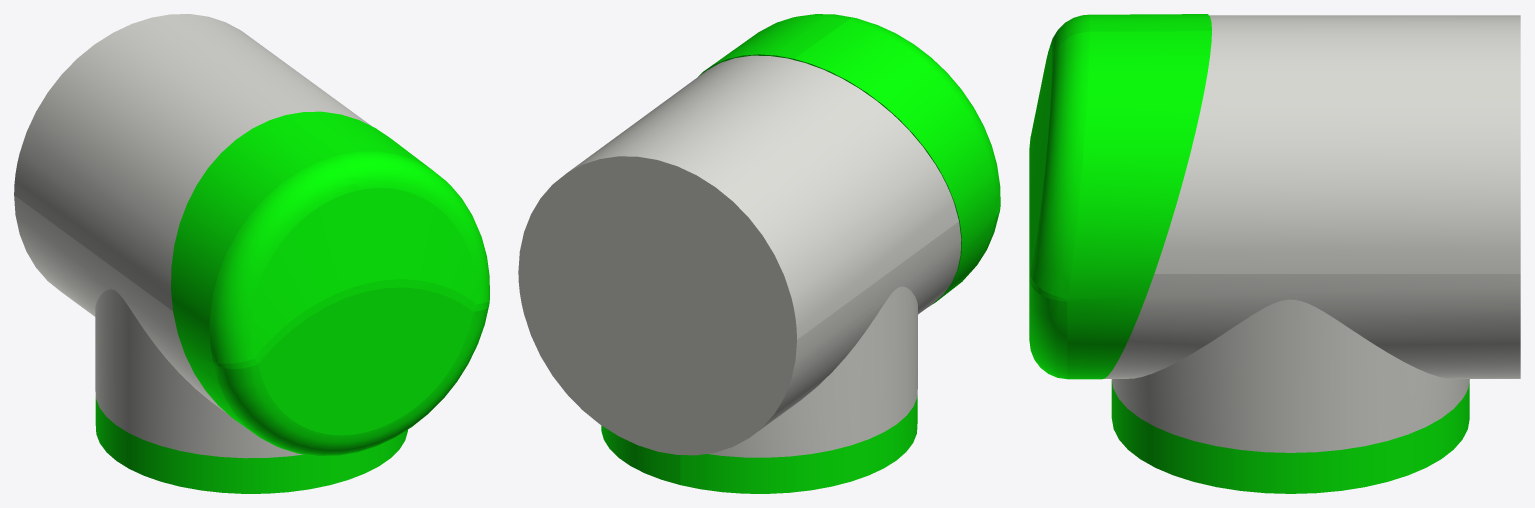
3 views of the same model, side by side, from view 1: azimuth 30°, elevation 25°; view 2: azimuth 150°, elevation 25°; view 3: azimuth 270°, elevation 25° (orthographic). The views are drawn at different scales.
Parts seen in each view (by area): view 1: link4; view 2: link4; view 3: link4.
Boxes of the visible parts, x1,y1,x2,y2 form: link4: (14,14,489,493); link4: (518,14,1000,493); link4: (1029,14,1520,493).
Size of the model in its own units: 0.0764 by 0.1026 by 0.0893.
